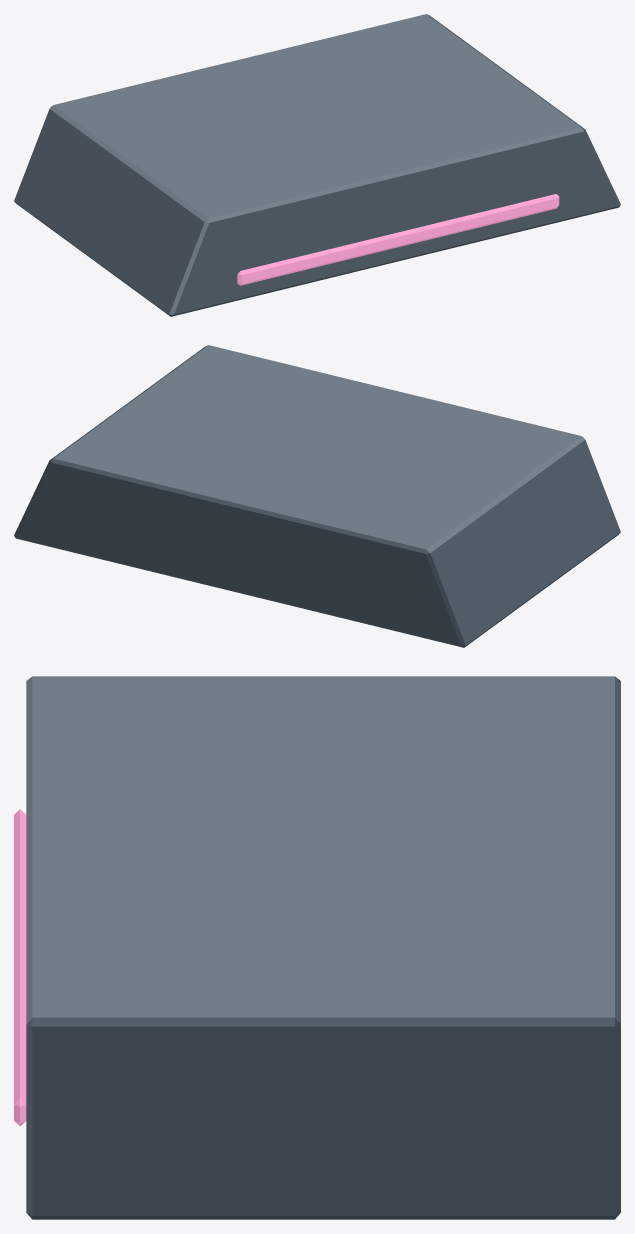
The model's file is Plate3D_Base.gltf.
3 views of the same model, one above another, from view 1: azimuth 30°, elevation 25°; view 2: azimuth 150°, elevation 25°; view 3: azimuth 270°, elevation 25° (orthographic). The views are drawn at different scales.
Parts seen in each view (by area): view 1: Plate3D_Base_baked; view 2: Plate3D_Base_baked; view 3: Plate3D_Base_baked.
Boxes of the visible parts, <box> form: Plate3D_Base_baked: <box>14,14,620,316</box>; Plate3D_Base_baked: <box>14,345,620,647</box>; Plate3D_Base_baked: <box>14,676,620,1219</box>.
Size of the model in its own units: 0.9551 by 0.18 by 0.592.
